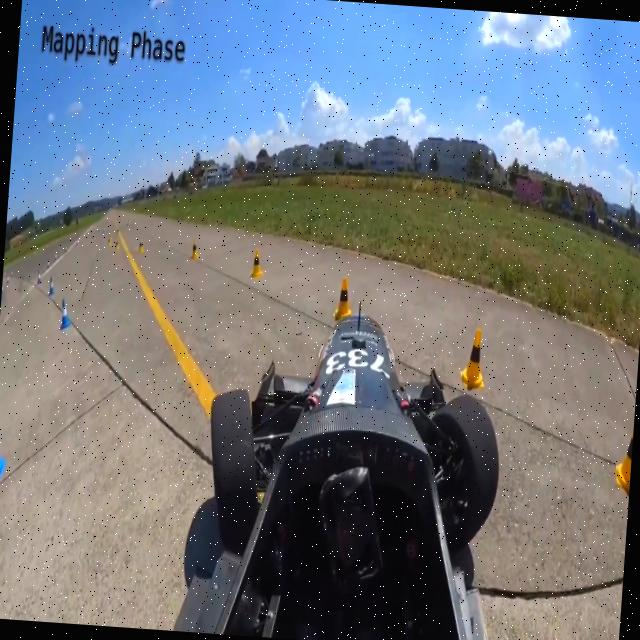blue_cone: (0, 410, 12, 479), (58, 295, 72, 331), (47, 274, 55, 298), (36, 270, 43, 286), (46, 258, 50, 270)
yellow_cone: (455, 326, 489, 394), (608, 419, 634, 491), (329, 280, 354, 326), (248, 248, 263, 282), (188, 238, 200, 266), (137, 240, 145, 254), (114, 238, 120, 250), (107, 236, 112, 248)
